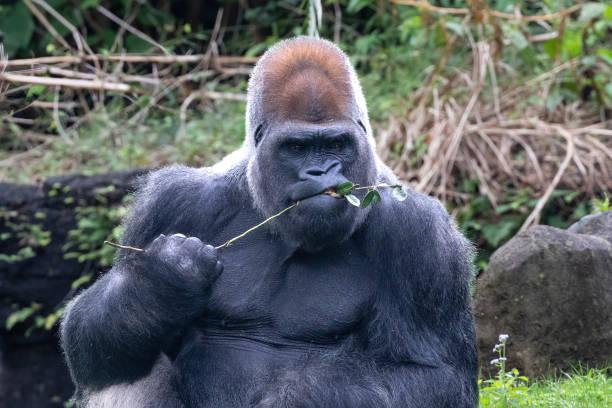gorille_Autres: (69, 0, 496, 405)
